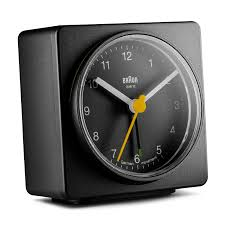alarm_clock: (12, 16, 208, 206)
